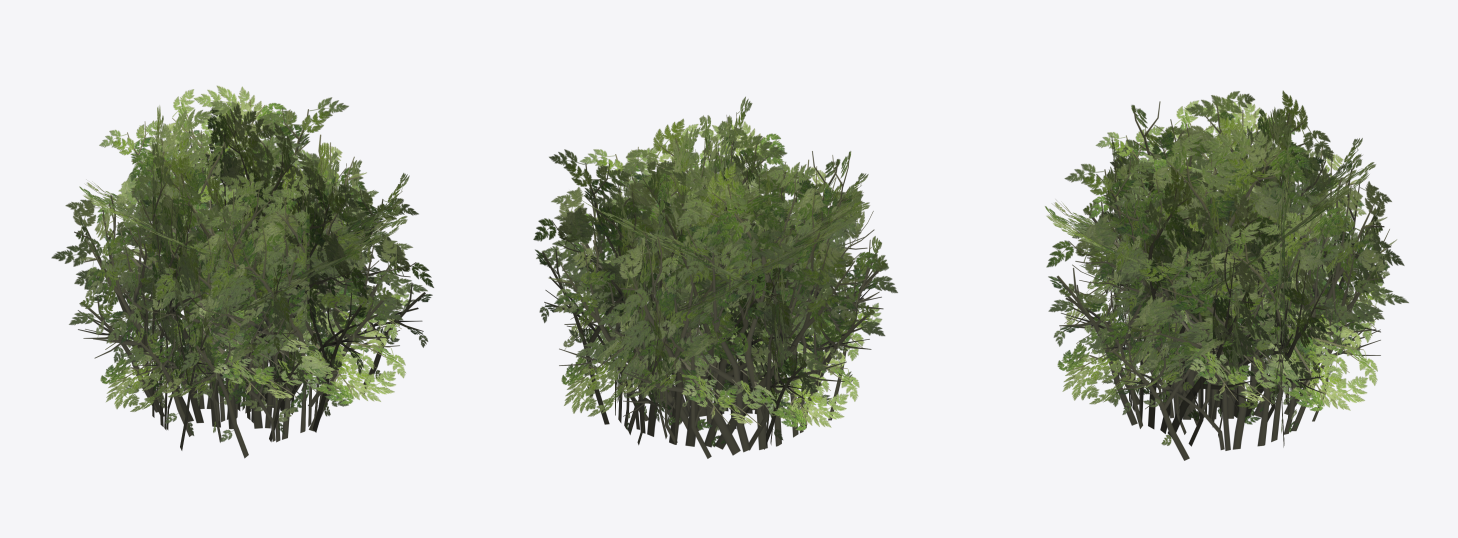
Rendered from shrub2.glb.
The picture shows the model from 3 angles, left to right: view 1: azimuth 30°, elevation 25°; view 2: azimuth 150°, elevation 25°; view 3: azimuth 270°, elevation 25°; orthographic projection.
Parts seen in each view (by area): view 1: Bush-04; view 2: Bush-04; view 3: Bush-04.
Part boxes in pixels (bbox=[...]): Bush-04: bbox=[51, 85, 433, 458]; Bush-04: bbox=[533, 96, 897, 458]; Bush-04: bbox=[1045, 90, 1408, 460].
Bounding box in the file's own units: 1.17 × 1.02 × 1.22.
2 materials, 2 textured.
